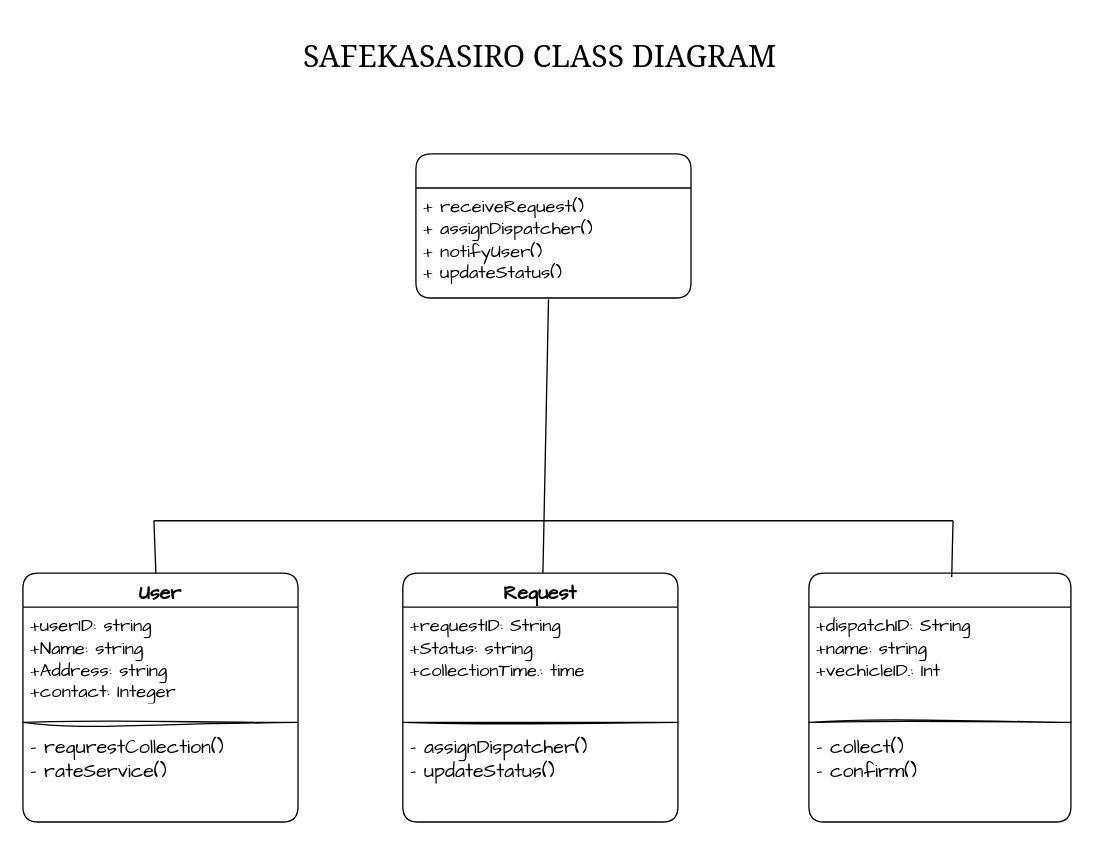
The diagram is 1094 pixels wide and 848 high, and some of its shapes have lost their labels. The box of each missing label's shape, as (x1, y1, x2, y2) in pixels:
Dispatcher: (808, 572, 1071, 822)
System: (415, 153, 691, 298)
